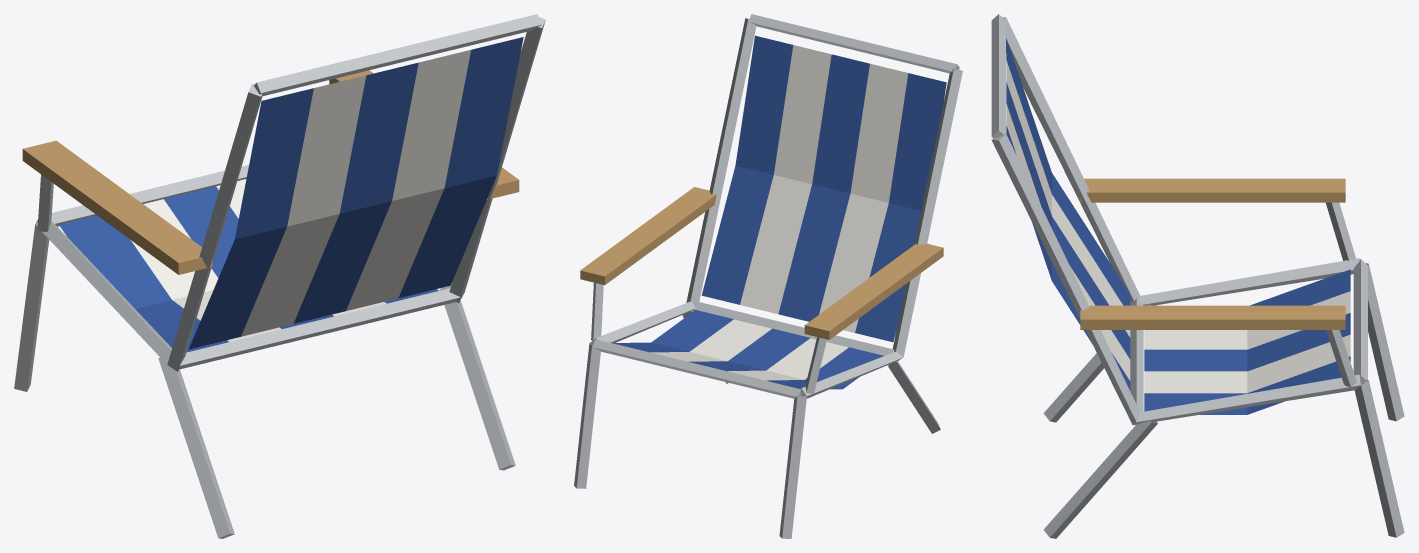
File: prop_beach_chair.glb
The picture shows the model from 3 angles, left to right: view 1: azimuth 30°, elevation 25°; view 2: azimuth 150°, elevation 25°; view 3: azimuth 270°, elevation 25°; orthographic projection. The views are drawn at different scales.
Visible parts, largest first — view 1: prop_beach_chair__mesh; view 2: prop_beach_chair__mesh; view 3: prop_beach_chair__mesh.
Boxes of the visible parts, x1=… form: prop_beach_chair__mesh: x1=14, y1=14, x2=545, y2=538; prop_beach_chair__mesh: x1=574, y1=14, x2=962, y2=538; prop_beach_chair__mesh: x1=991, y1=14, x2=1404, y2=538.
Size of the model in its own units: 0.655 by 0.884 by 0.8103.
Materials: 1 (1 with a texture image).
